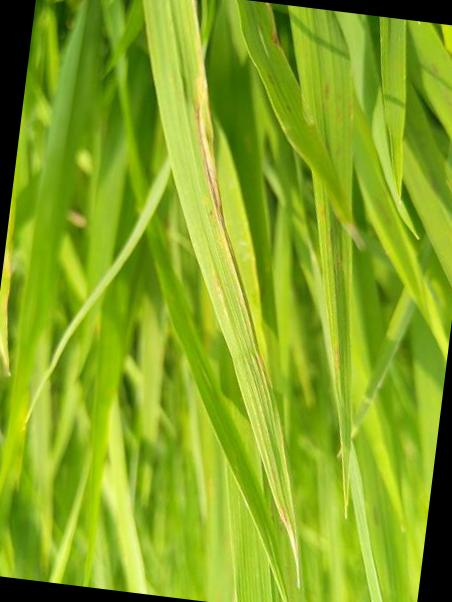Leaf Blight: (194, 28, 296, 558)
